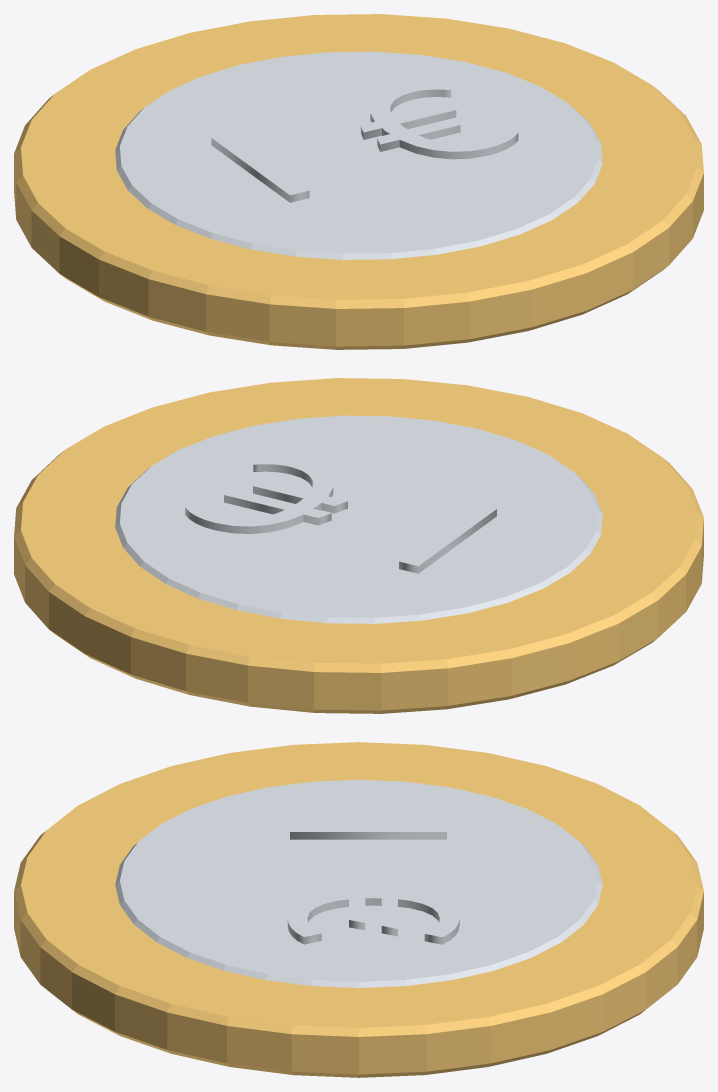
Rendered from one-euro-coin.glb.
The picture shows the model from 3 angles, top to bottom: view 1: azimuth 30°, elevation 25°; view 2: azimuth 150°, elevation 25°; view 3: azimuth 270°, elevation 25°; orthographic projection.
Visible parts, largest first — view 1: Euro1_GoldRing, Euro1_SilverCentre, Euro1_Embossed_1Euro.001; view 2: Euro1_GoldRing, Euro1_SilverCentre, Euro1_Embossed_1Euro.001; view 3: Euro1_GoldRing, Euro1_SilverCentre, Euro1_Embossed_1Euro.001.
Part boxes in pixels (x1,y1,x2,y2): Euro1_GoldRing: (14, 14, 703, 349); Euro1_SilverCentre: (115, 51, 602, 259); Euro1_Embossed_1Euro.001: (211, 81, 518, 202); Euro1_GoldRing: (14, 378, 703, 713); Euro1_SilverCentre: (115, 415, 602, 623); Euro1_Embossed_1Euro.001: (185, 456, 496, 573); Euro1_GoldRing: (14, 742, 703, 1077); Euro1_SilverCentre: (115, 779, 602, 987); Euro1_Embossed_1Euro.001: (287, 822, 459, 944).
Size of the model in its own units: 0.3 by 0.0356 by 0.3.
